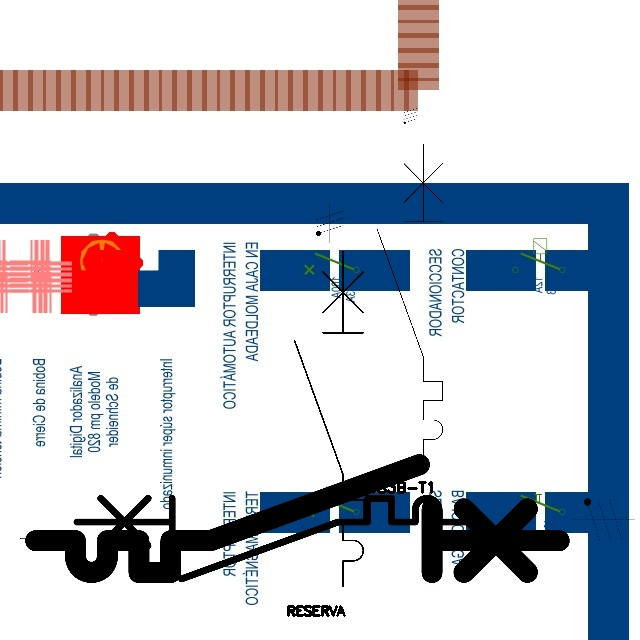interruptor_termomagnetico: (22, 451, 573, 586), (66, 488, 479, 589), (286, 242, 372, 594), (369, 135, 451, 471)
